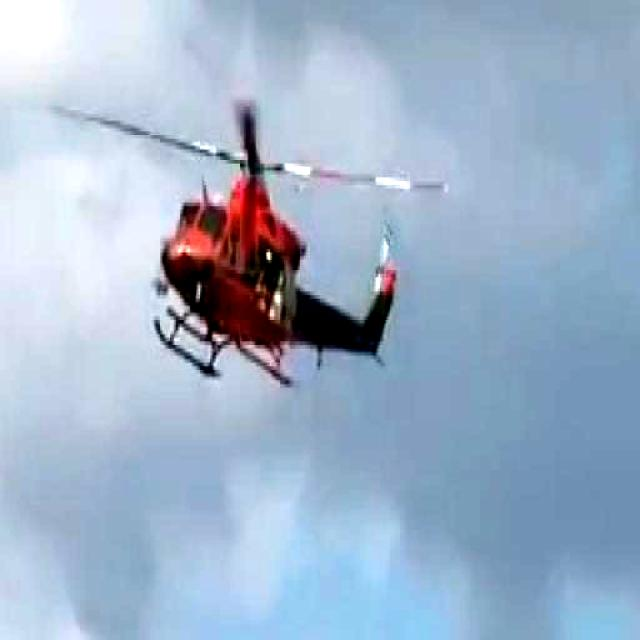drone: (112, 48, 440, 384)
